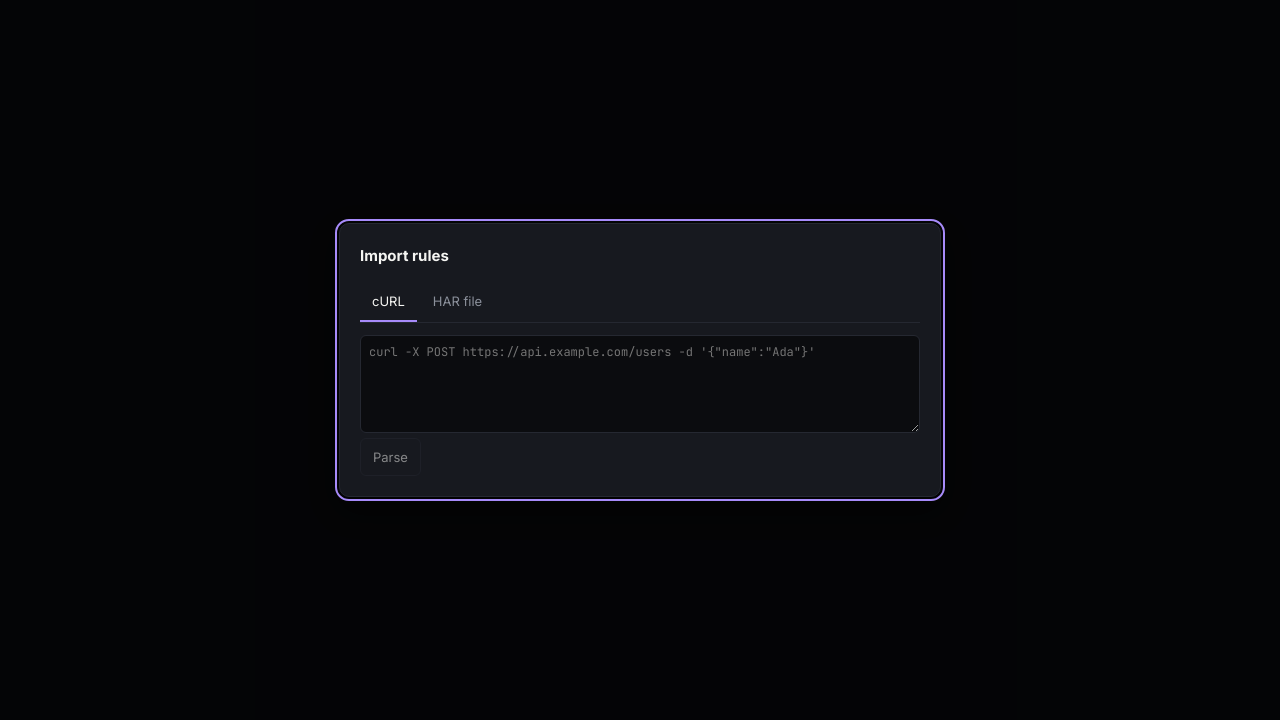
Scenario: ImportRulesModal — cURL (plan 08) › counts a 409 as a skipped collision, not a failure
Step 1. Replace the text in the text box with "curl https://x/a" → (640, 384), box [360,334,920,432]
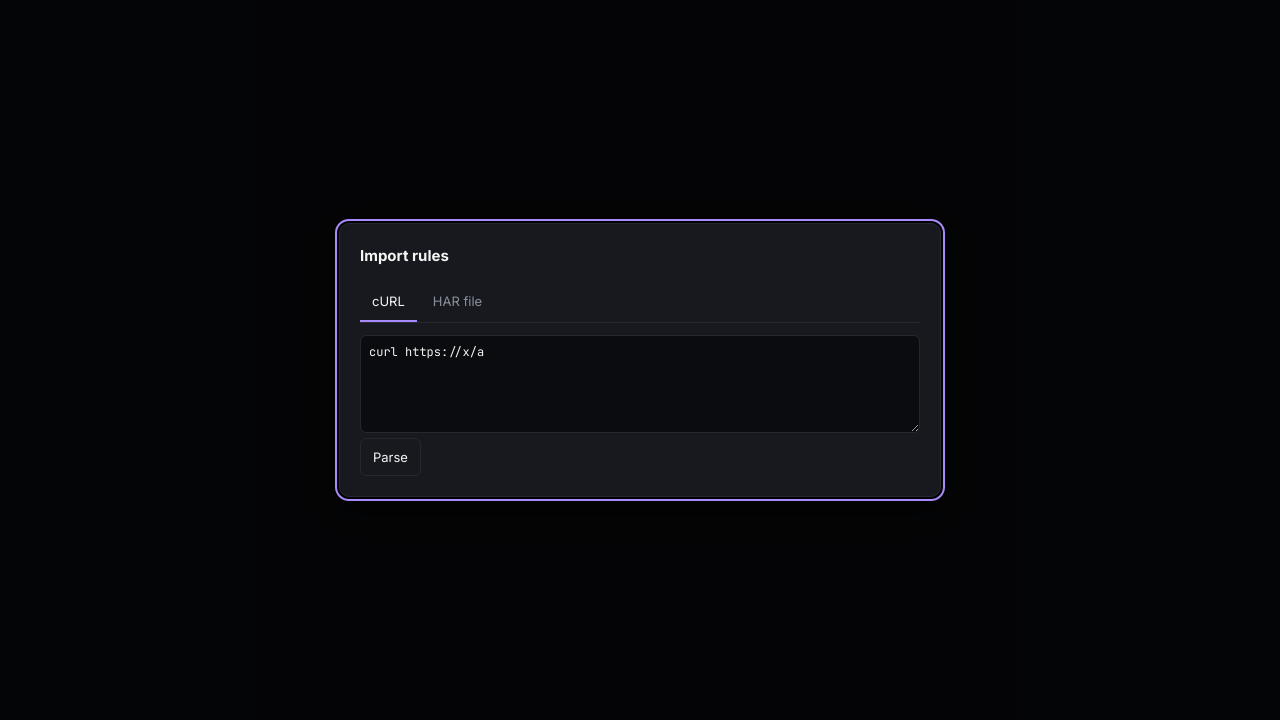
Step 2. Click the button "Parse" → click(390, 457), box [360,438,421,476]
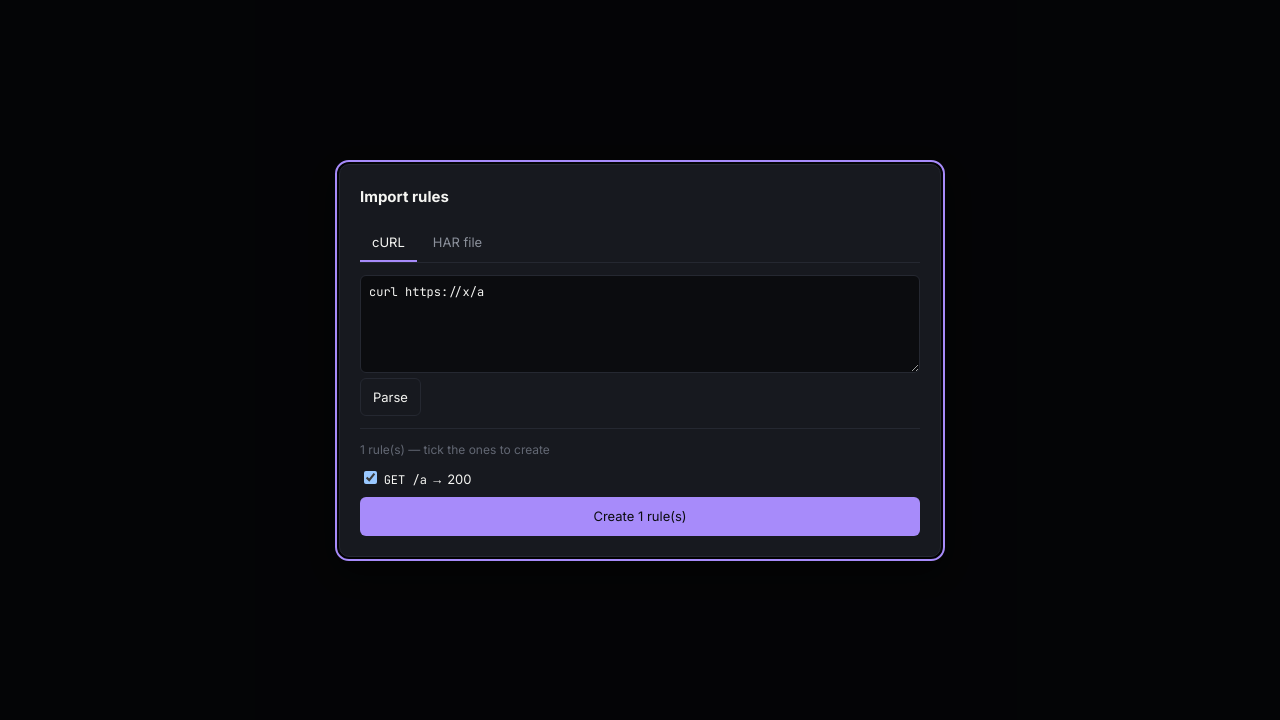
Step 3. Click the button "Create 1 rule(s)" → click(640, 516), box [360,497,920,536]
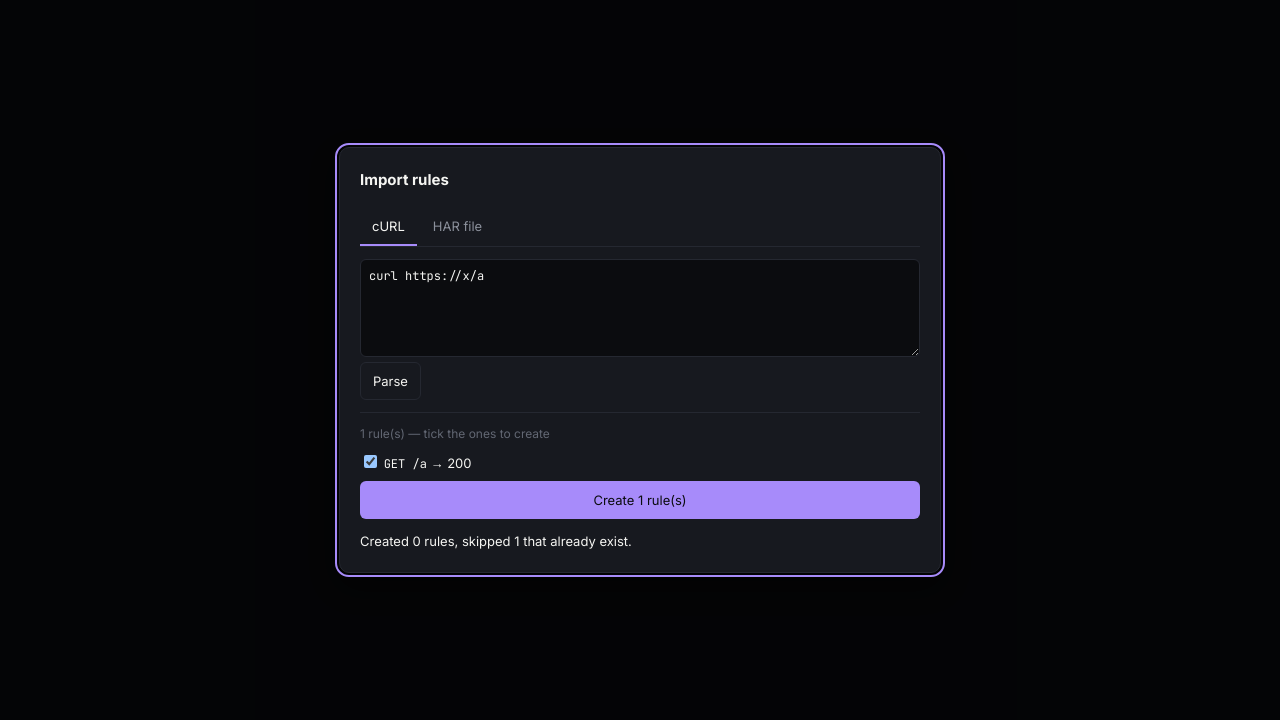
Expected: the text "Created 0 rules, skipped 1 that already exist." is shown, [360,533,632,549]
